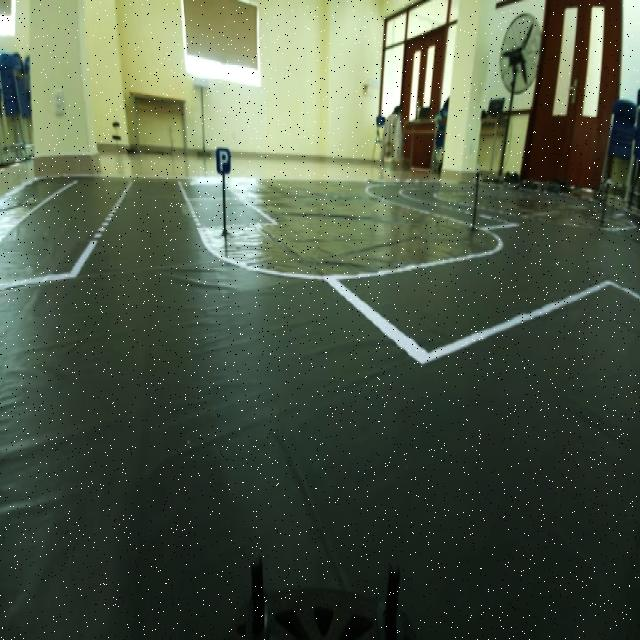parking: (209, 140, 236, 174)
